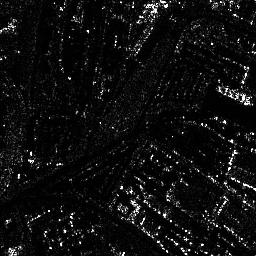ship: (214, 83, 252, 107)
